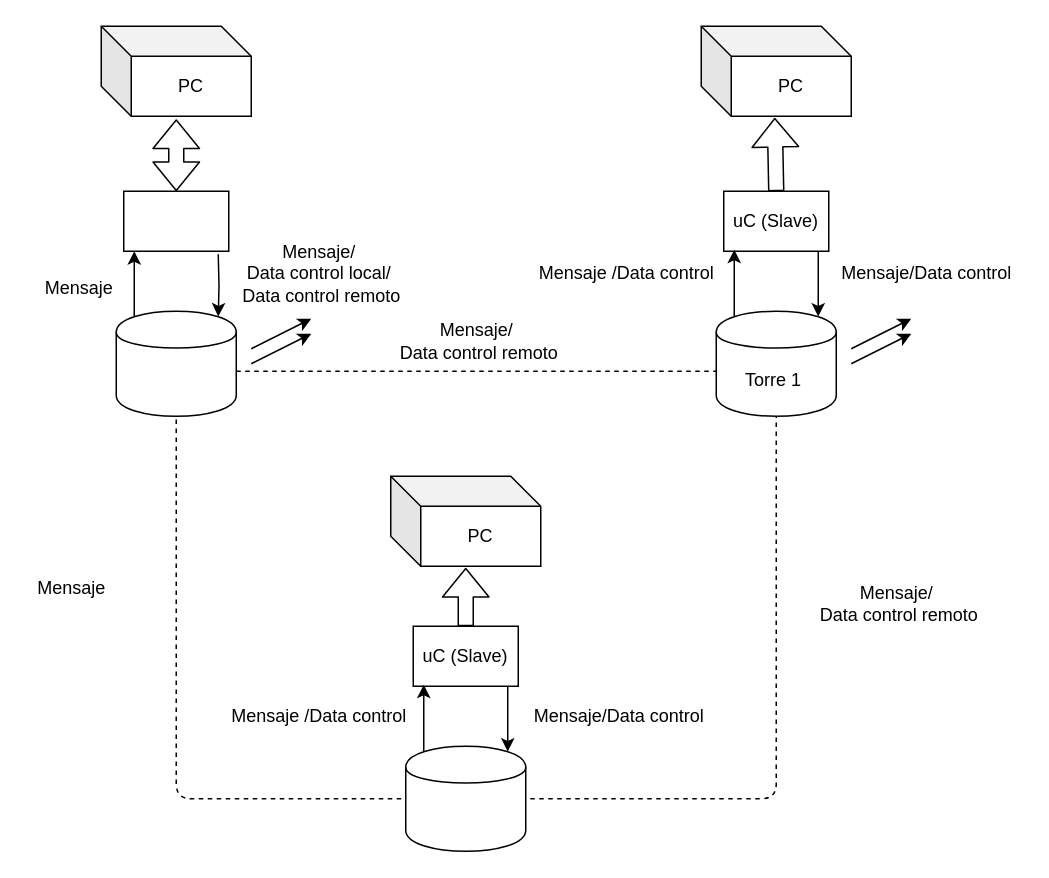
Image size: 1049x878. Some labels were removed from this diagram. Each missing label, with the box of its shape:
Torre 0: (115, 310, 236, 416)
Torre 2: (404, 745, 526, 851)
uC (Master): (122, 190, 229, 251)
